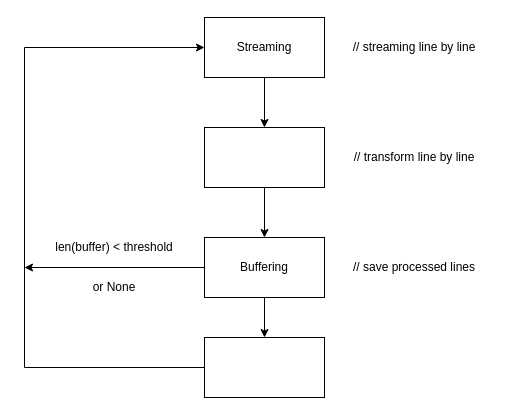
This 512x415 diagram has some shape labels left out. The shapes that lost their labels are listed below. From the top down, each one's centre as x and y in pixels, then its label:
At pixel 264 157: "Transform".
At pixel 264 367: "Insert".
